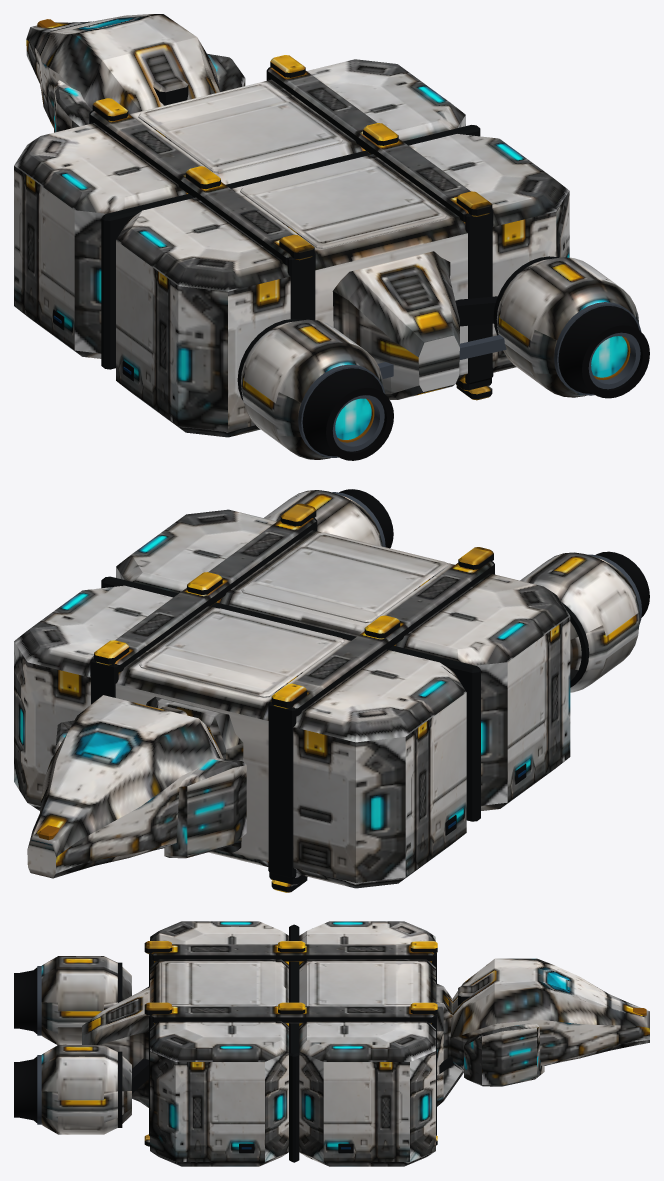
Rendered from tiny-freighter.obj.
3 views of the same model, one above another, from view 1: azimuth 30°, elevation 25°; view 2: azimuth 150°, elevation 25°; view 3: azimuth 270°, elevation 25° (orthographic). The views are drawn at different scales.
Visible parts, largest first — view 1: cargo.2_|_beveled_pressure_container, cargo.1_|_beveled_pressure_container, hull_|_continuous_structural_keel, bridge_|_faceted_forward_pressure_cabin, cargo.2_|_inset_dorsal_loading_panel, cargo.1_|_inset_dorsal_loading_panel, engine.port_|_stepped_armored_engine_casing, engine.starboard_|_stepped_armored_engine_casing, rail.port_|_dorsal_retention_rail, rail.starboard_|_dorsal_retention_rail, cargo_|_recessed_intermodule_seam, rail.starboard_|_aft_return (+18 smaller); view 2: cargo.1_|_beveled_pressure_container, cargo.2_|_beveled_pressure_container, bridge_|_faceted_forward_pressure_cabin, cargo.2_|_inset_dorsal_loading_panel, cargo.1_|_inset_dorsal_loading_panel, engine.port_|_stepped_armored_engine_casing, bridge.port_|_sensor_and_maneuvering_fairing, rail.starboard_|_dorsal_retention_rail, rail.port_|_dorsal_retention_rail, rail.port_|_forward_return, cargo_|_recessed_intermodule_seam, engine.starboard_|_stepped_armored_engine_casing (+11 smaller); view 3: cargo.2_|_beveled_pressure_container, cargo.1_|_beveled_pressure_container, bridge_|_faceted_forward_pressure_cabin, engine.starboard_|_stepped_armored_engine_casing, engine.port_|_stepped_armored_engine_casing, cargo.2_|_inset_dorsal_loading_panel, hull_|_continuous_structural_keel, cargo.1_|_inset_dorsal_loading_panel, bridge.starboard_|_sensor_and_maneuvering_fairing, rail.port_|_dorsal_retention_rail, rail.starboard_|_dorsal_retention_rail, cargo_|_recessed_intermodule_seam (+4 smaller).
Part boxes in pixels (x1,y1,x2,y2): cargo.2_|_beveled_pressure_container: (116,134,569,437); cargo.1_|_beveled_pressure_container: (14,59,465,358); hull_|_continuous_structural_keel: (332,251,459,399); bridge_|_faceted_forward_pressure_cabin: (26,14,219,127); cargo.2_|_inset_dorsal_loading_panel: (240,158,446,248); cargo.1_|_inset_dorsal_loading_panel: (138,83,342,172); engine.port_|_stepped_armored_engine_casing: (241,319,383,459); engine.starboard_|_stepped_armored_engine_casing: (496,257,638,397); rail.port_|_dorsal_retention_rail: (90,111,293,266); rail.starboard_|_dorsal_retention_rail: (268,67,470,222); cargo_|_recessed_intermodule_seam: (101,125,480,369); rail.starboard_|_aft_return: (465,209,493,384); cargo.1_|_beveled_pressure_container: (14,585,466,888); cargo.2_|_beveled_pressure_container: (116,509,570,810); bridge_|_faceted_forward_pressure_cabin: (27,695,223,878); cargo.2_|_inset_dorsal_loading_panel: (241,532,448,623); cargo.1_|_inset_dorsal_loading_panel: (139,608,344,697); engine.port_|_stepped_armored_engine_casing: (520,552,639,692); bridge.port_|_sensor_and_maneuvering_fairing: (164,758,246,858); rail.starboard_|_dorsal_retention_rail: (91,518,316,673); rail.port_|_dorsal_retention_rail: (269,561,493,716); rail.port_|_forward_return: (268,701,296,878); cargo_|_recessed_intermodule_seam: (101,576,480,821); engine.starboard_|_stepped_armored_engine_casing: (264,490,382,546); cargo.2_|_beveled_pressure_container: (150,921,288,1166); cargo.1_|_beveled_pressure_container: (299,921,435,1166); bridge_|_faceted_forward_pressure_cabin: (450,958,649,1071); engine.starboard_|_stepped_armored_engine_casing: (41,1045,131,1134); engine.port_|_stepped_armored_engine_casing: (41,956,131,1045); cargo.2_|_inset_dorsal_loading_panel: (161,961,276,1006); hull_|_continuous_structural_keel: (82,983,463,1107); cargo.1_|_inset_dorsal_loading_panel: (308,961,421,1006); bridge.starboard_|_sensor_and_maneuvering_fairing: (464,1023,544,1086); rail.port_|_dorsal_retention_rail: (151,944,433,961); rail.starboard_|_dorsal_retention_rail: (151,1006,434,1023); cargo_|_recessed_intermodule_seam: (289,924,299,1162).
Bounding box in the file's own units: 7.65 × 3.61 × 14.98.
7 materials, 2 textured.
